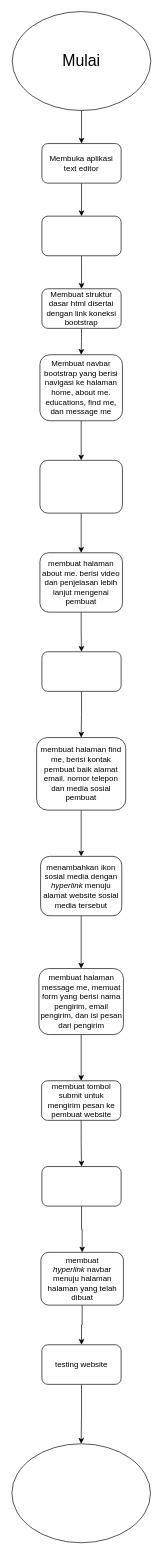
Image size: 162x1554. Some labels were removed from this diagram. The shapes that lost their labels are listed below. From the top down, each one's centre as x and y in pixels, then its label:
At (81,235): "Membuat file html dan css, serta framework bootstrap".
At (80,486): "membuat halaman home dengan isi gambar pembuat, nama, dan status pembuat".
At (81,671): "membuat halaman educations yang berisi latar pendidikan pembuat".
At (81,1186): "membuat halaman credit, berisi nama pembuat website".
At (80,1493): "Selesai".
